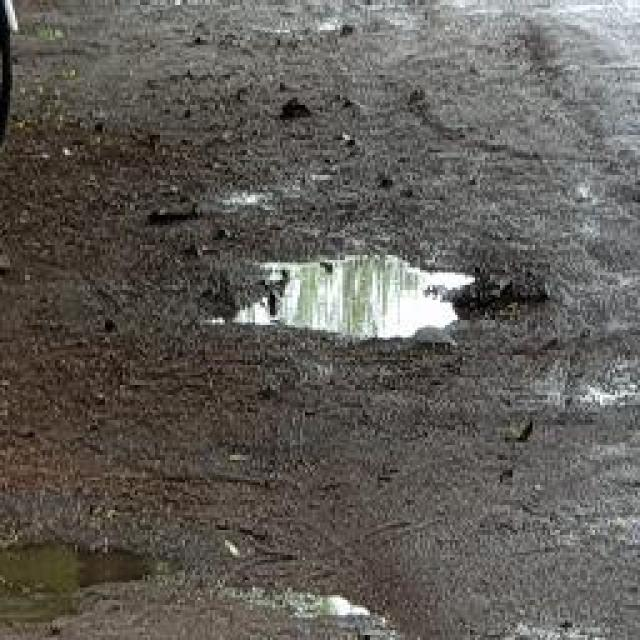waterlogging: (264, 246, 488, 353)
